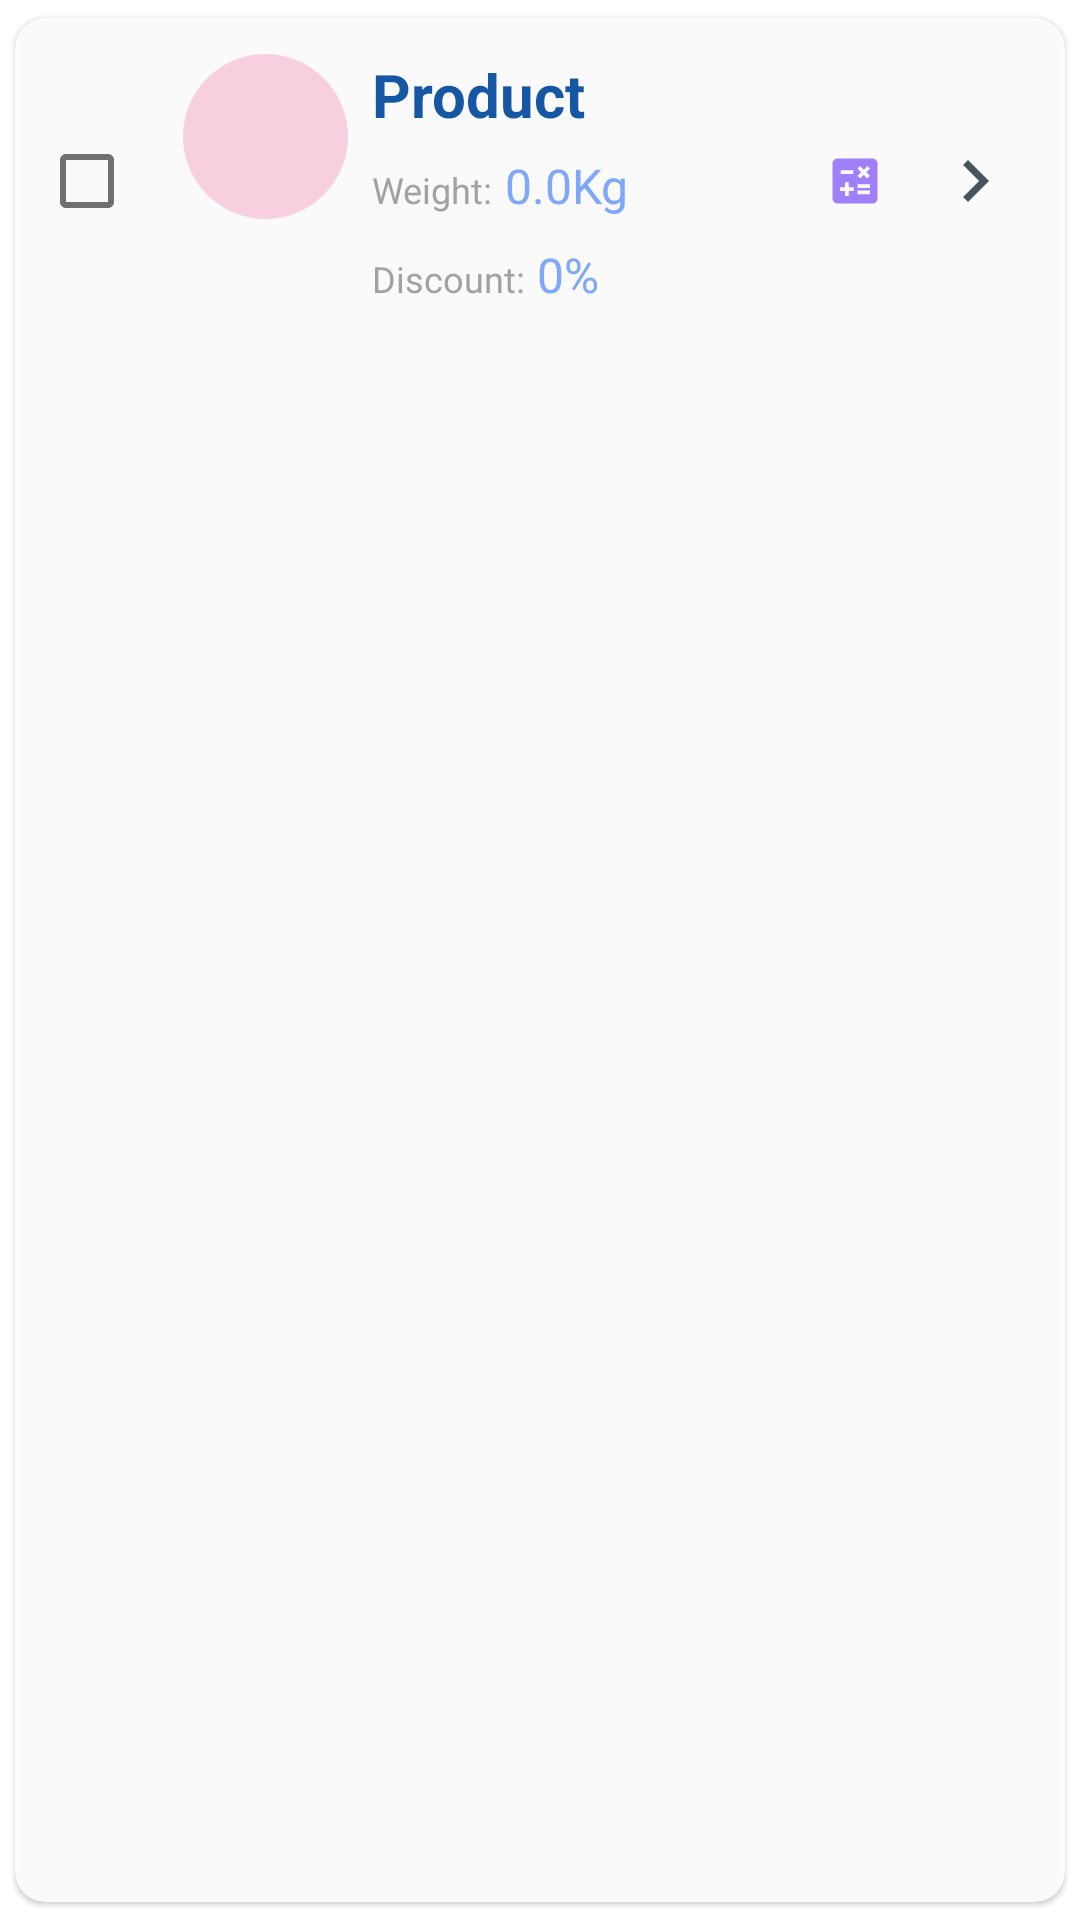

Point at icon controls on the screen. Image size 1080x1920, points as (x,y).
arrow right: (976,181)
calculator: (855,181)
